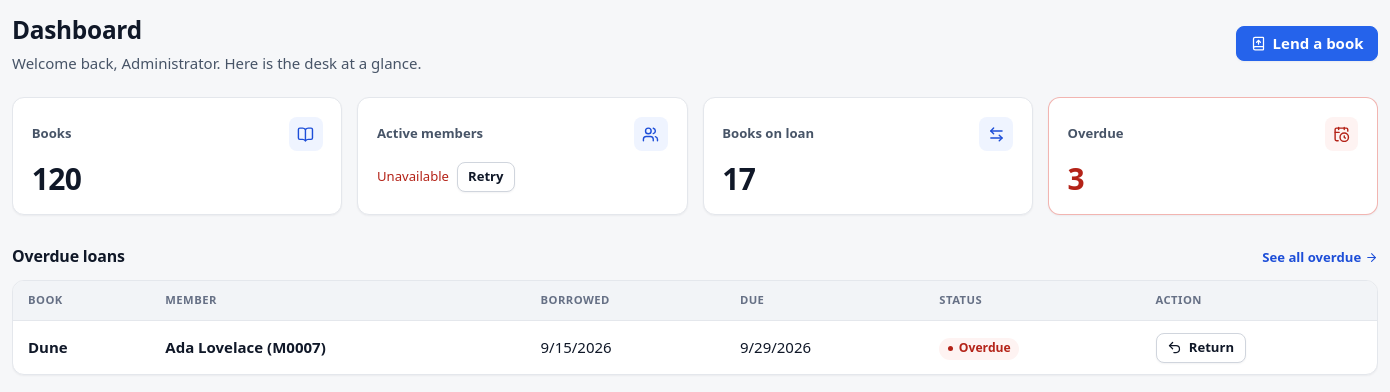
Test: DashboardPage › keeps working when one total fails, and that total can be retried
Expected: the text named "Books: 120" is shown, left=32, top=158, right=82, bottom=199
Click the button with aria-label "Retry Active members".
click(486, 177)  # box left=456, top=162, right=515, bottom=192
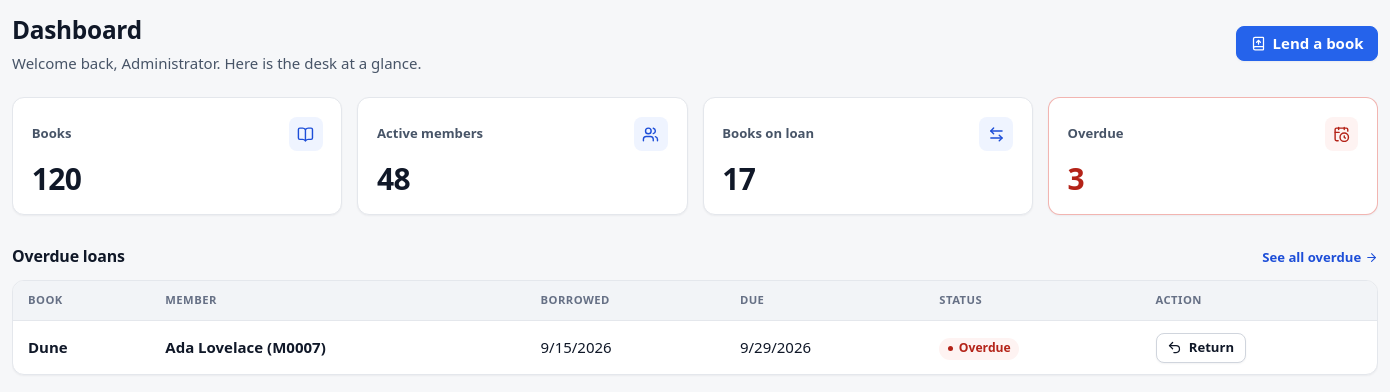
Now the text named "Active members: 48" is shown, box left=377, top=158, right=410, bottom=199
